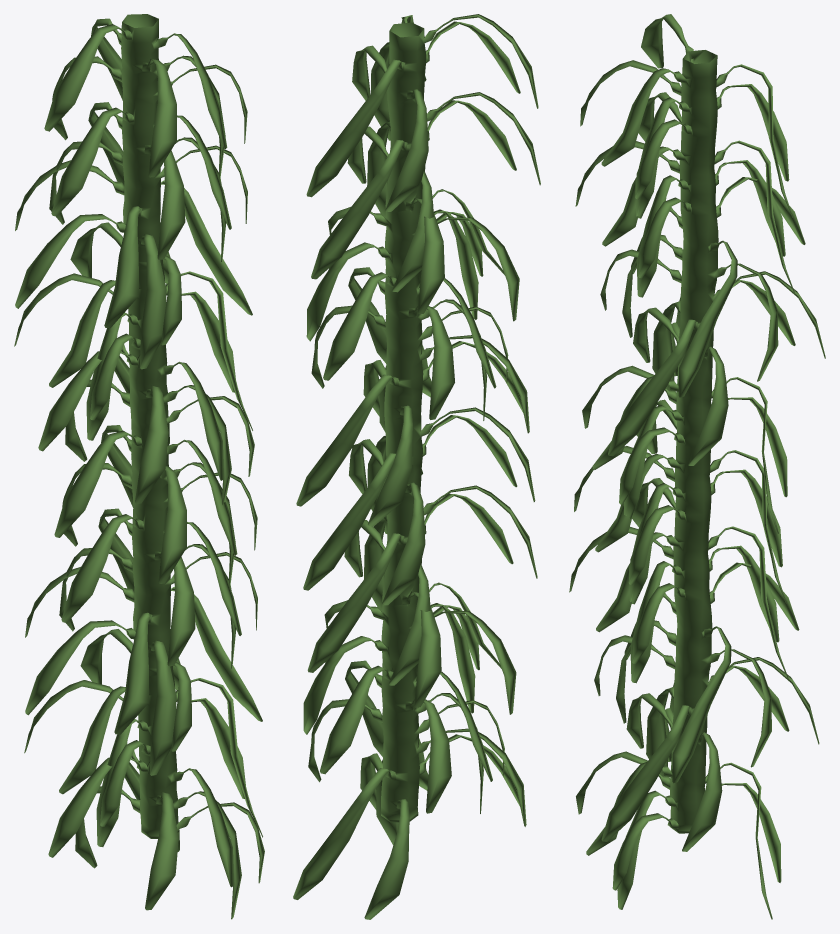
The model's file is kelp.fbx.
3 renders of one model, left to right at view 1: azimuth 30°, elevation 25°; view 2: azimuth 150°, elevation 25°; view 3: azimuth 270°, elevation 25°, orthographic. The views are drawn at different scales.
Visible parts, largest first — view 1: Cylinder; view 2: Cylinder; view 3: Cylinder.
Part boxes in pixels (box(x1,y1,x2,y2)): Cylinder: box(14, 14, 264, 919); Cylinder: box(293, 14, 540, 919); Cylinder: box(569, 14, 825, 919).
Size of the model in its own units: 156 by 595 by 163.
